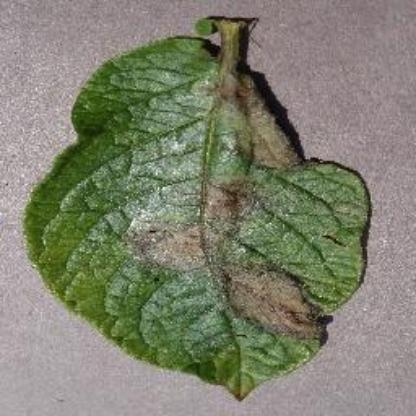Late-Blight: (19, 12, 386, 404)
